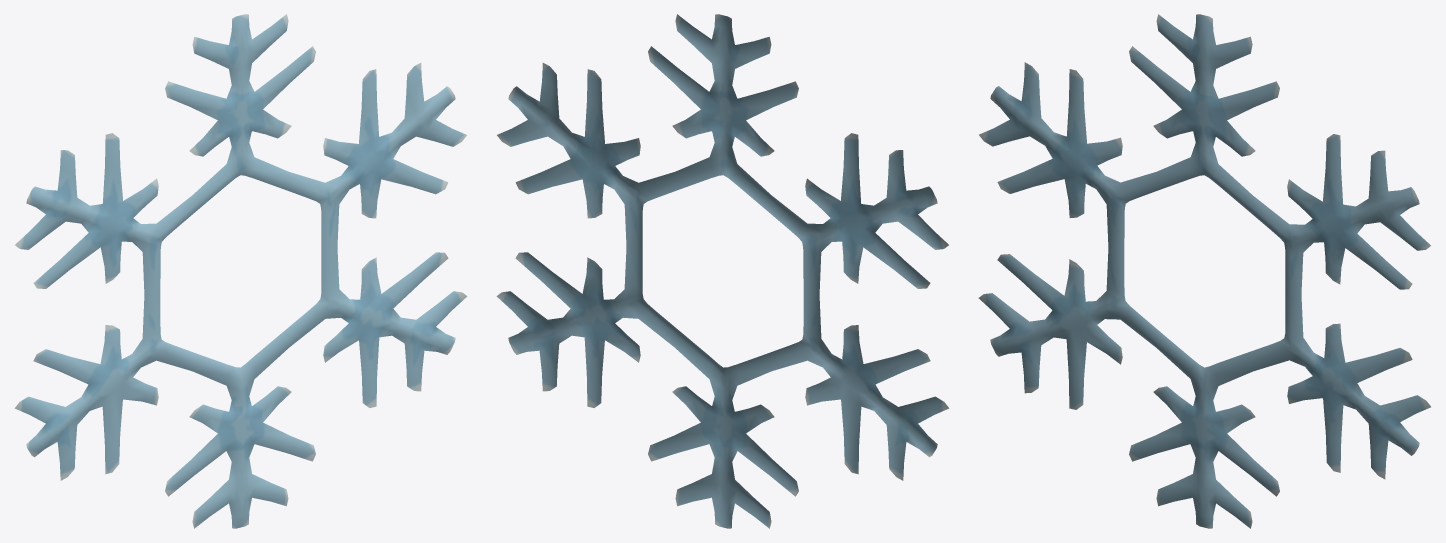
File: copo.obj
3 renders of one model, left to right at view 1: azimuth 30°, elevation 25°; view 2: azimuth 150°, elevation 25°; view 3: azimuth 330°, elevation 25°, orthographic.
Visible parts, largest first — view 1: snowflakePack_Mesh; view 2: snowflakePack_Mesh; view 3: snowflakePack_Mesh.
Boxes of the visible parts, <box> form: snowflakePack_Mesh: <box>14,14,467,528</box>; snowflakePack_Mesh: <box>496,14,949,528</box>; snowflakePack_Mesh: <box>978,14,1430,528</box>.
Size of the model in its own units: 0.5205 by 0.5623 by 0.0034.
1 material, 1 textured.
